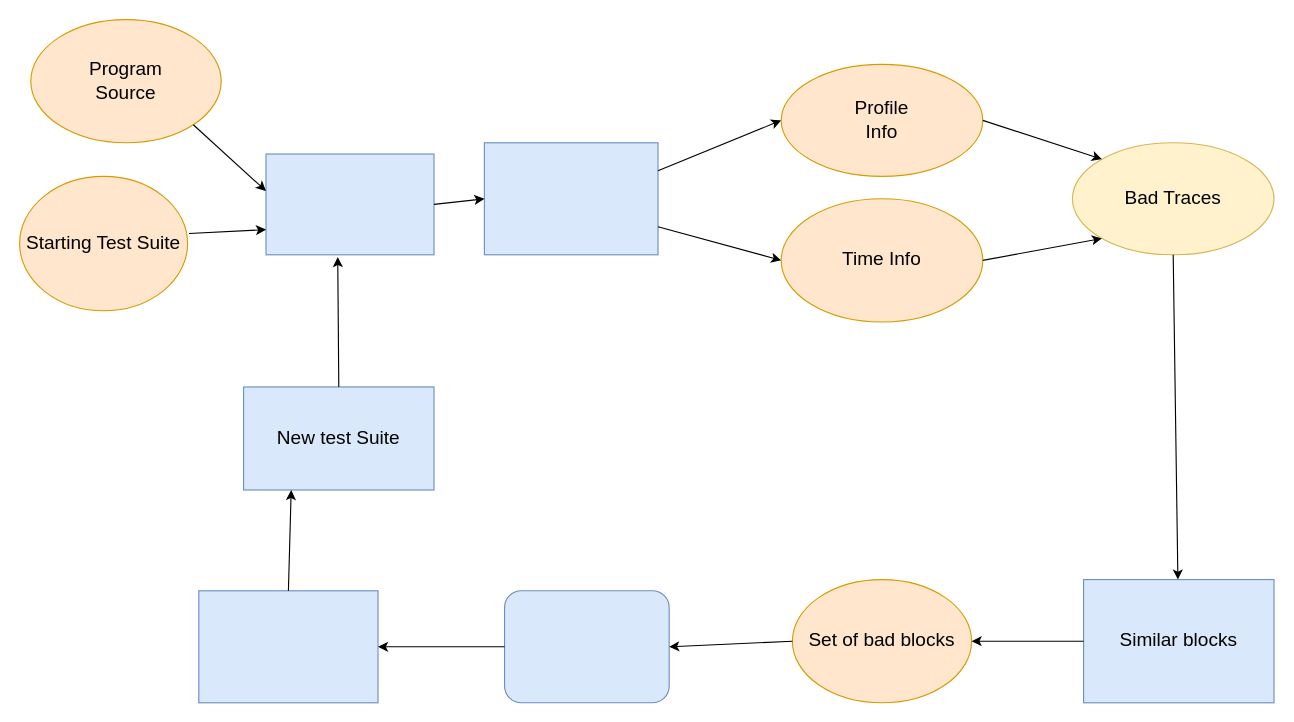
The diagram is 1294 pixels wide and 722 high, and some of its shapes have lost their labels. The box of each missing label's shape, as (x1, y1, x2, y2) in pixels:
Execute: (265, 153, 434, 255)
LMS: (198, 590, 378, 703)
Profling: GCov: (483, 142, 658, 255)
Seminal Features: (503, 590, 669, 703)
